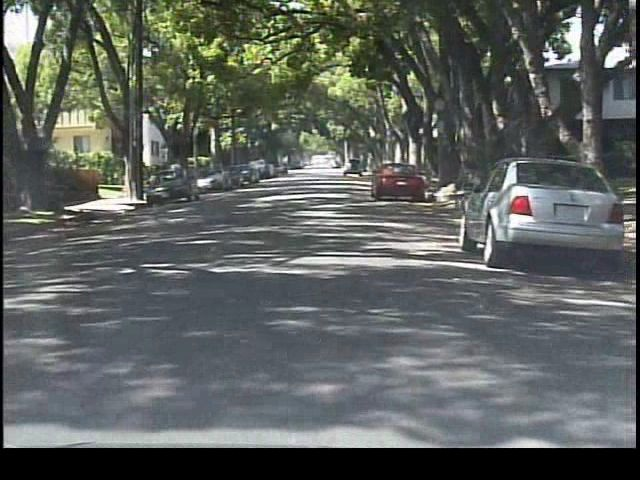person: (167, 157, 187, 193)
